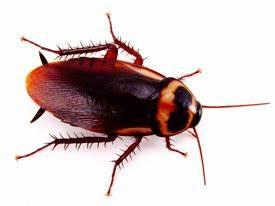cockroach: (22, 43, 204, 150)
